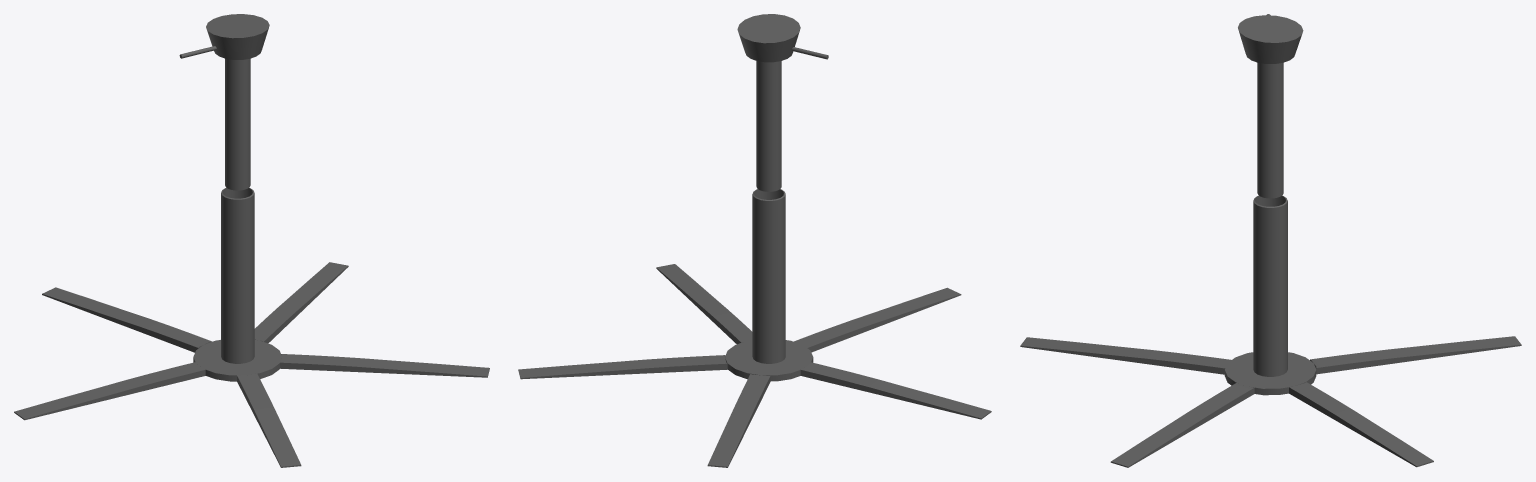
File: RoboTHOR_office_chair_jules_robothor_office_chair_jules_1.obj
3 views of the same model, side by side, from view 1: azimuth 30°, elevation 25°; view 2: azimuth 150°, elevation 25°; view 3: azimuth 270°, elevation 25° (orthographic). The views are drawn at different scales.
Bounding box in the file's own units: 0.5155 × 0.4151 × 0.5412.
Materials: 1 (1 with a texture image).
